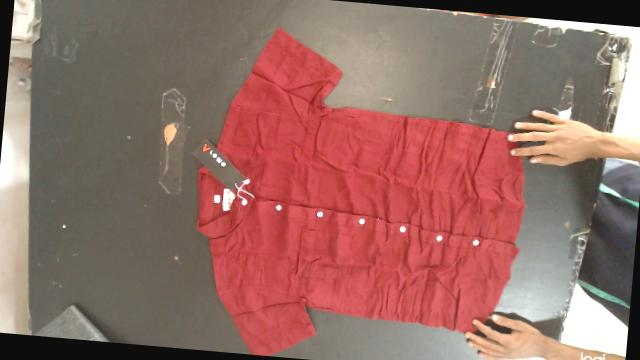new-garment: (197, 29, 524, 354)
